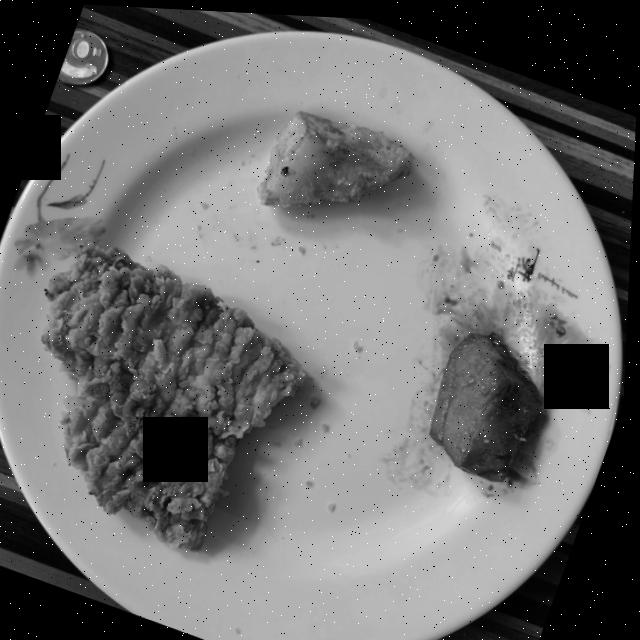coin: (58, 28, 109, 85)
creamy tofu: (433, 327, 545, 476)
fried chicken cutlet: (45, 241, 308, 550)
fried potato: (259, 108, 415, 204)
